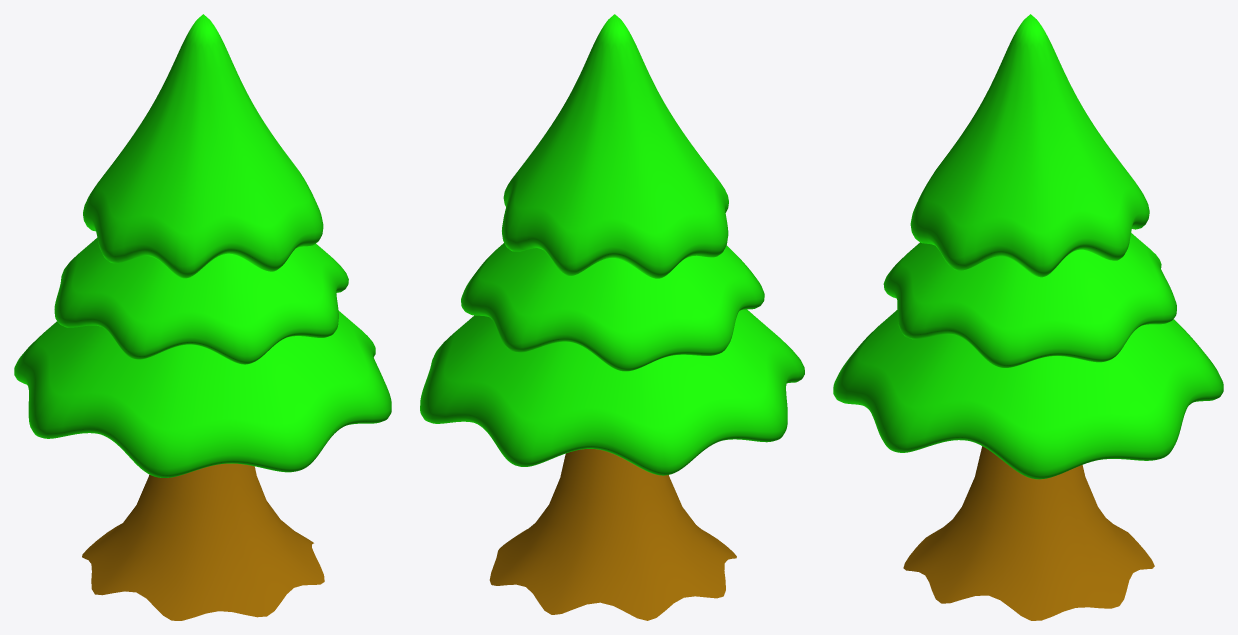
The model's file is pine3.fbx.
3 renders of one model, left to right at view 1: azimuth 30°, elevation 25°; view 2: azimuth 150°, elevation 25°; view 3: azimuth 270°, elevation 25°, orthographic.
Visible parts, largest first — view 1: pine4; view 2: pine4; view 3: pine4.
Part boxes in pixels (left/top/right/bottom): pine4: left=14, top=14, right=391, bottom=620; pine4: left=420, top=14, right=804, bottom=620; pine4: left=833, top=14, right=1223, bottom=620.
Bounding box in the file's own units: 106 × 166 × 106.
